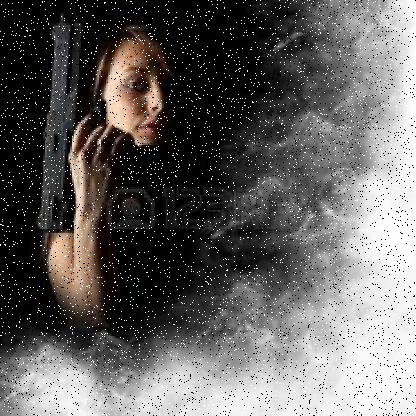pistol: (32, 10, 104, 235)
